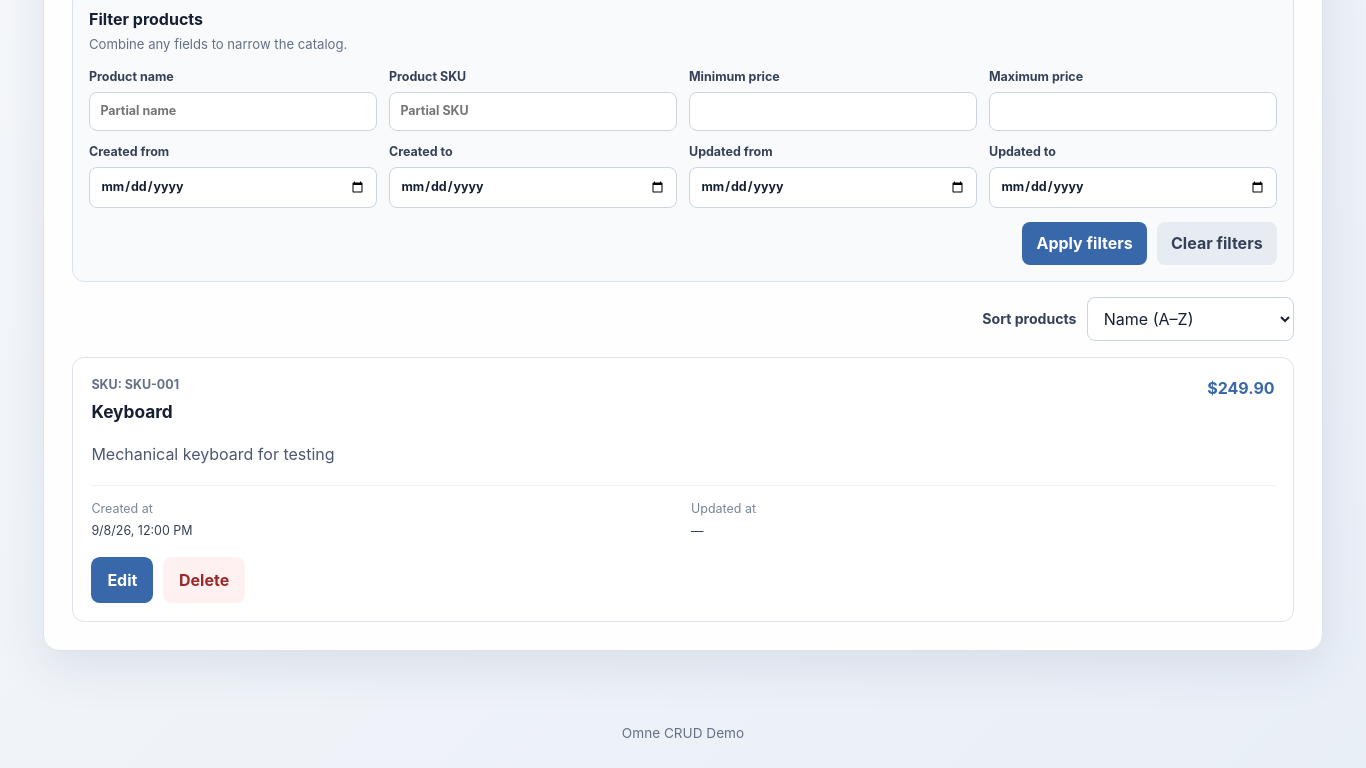
Test case: App › confirms and removes a product locally after DELETE
(page scrolled)
What coordinates should you click on to do the following:
click the button with aria-label "Delete Keyboard"
I would click on:
 (204, 580)
Its box is [163,557,245,603].
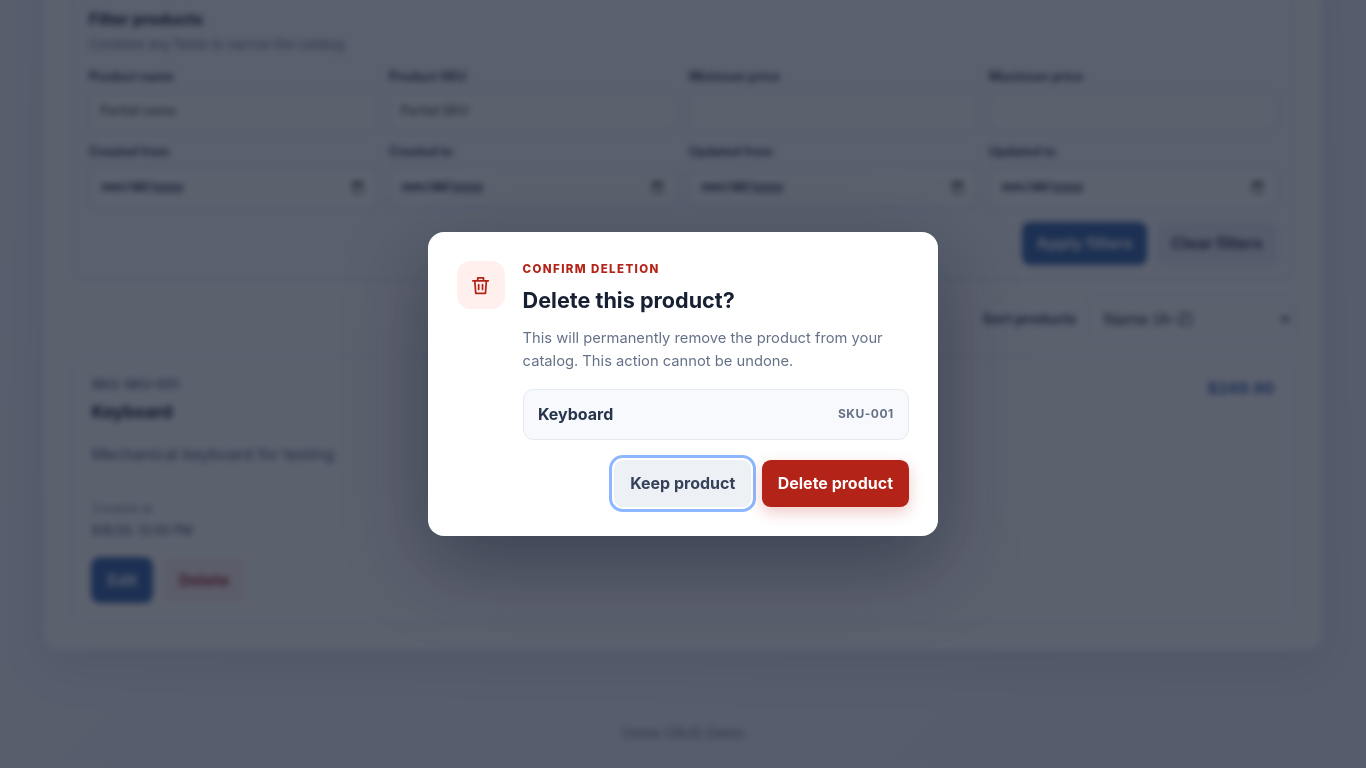
Check: the text "Keyboard" is shown, box [538,402,613,426]
Check: the text "SKU-001" is shown, box [838,405,894,423]
What coordinates should you click on to do the following:
click the button "Delete product"
I would click on:
 (835, 483)
Its box is [762,460,909,507].
(page scrolled)
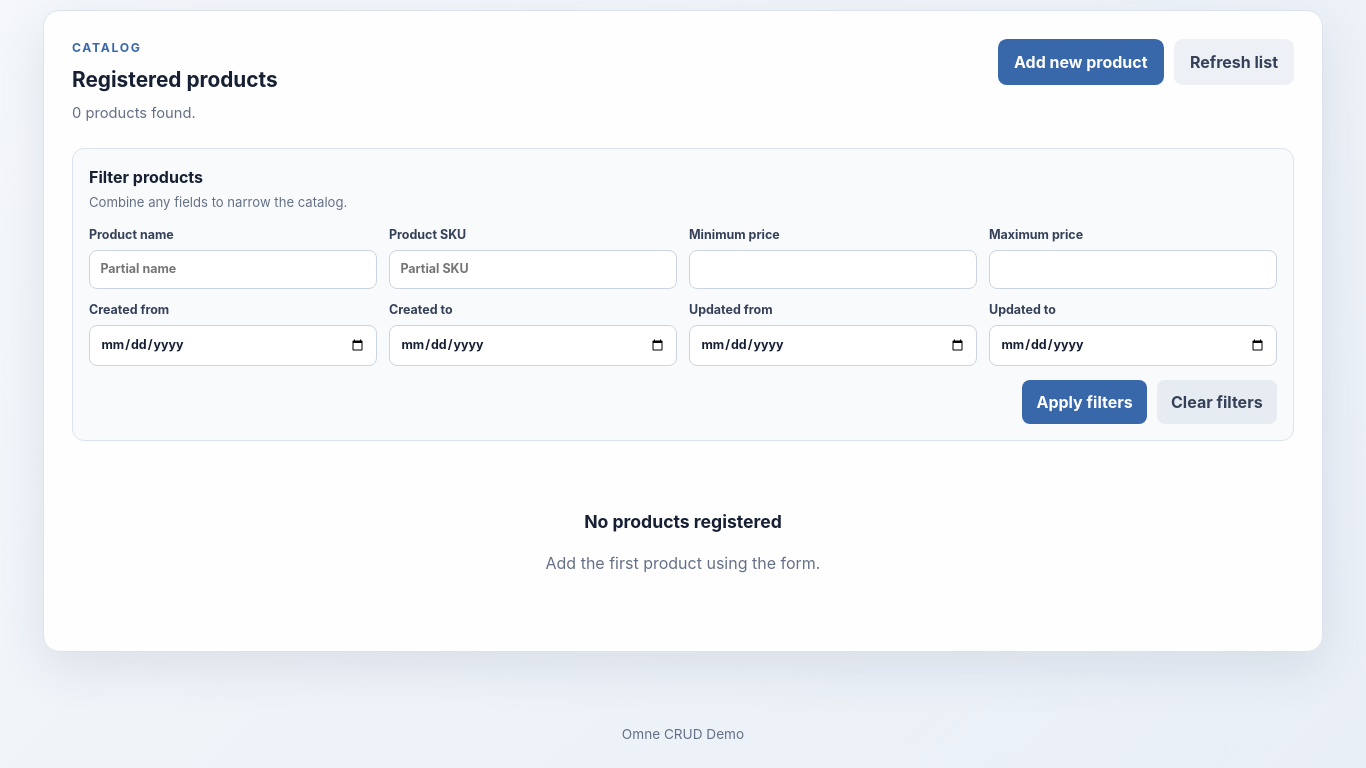
Check: the heading "No products registered" is shown, box [584,510,782,532]
Check: the dialog is gone
